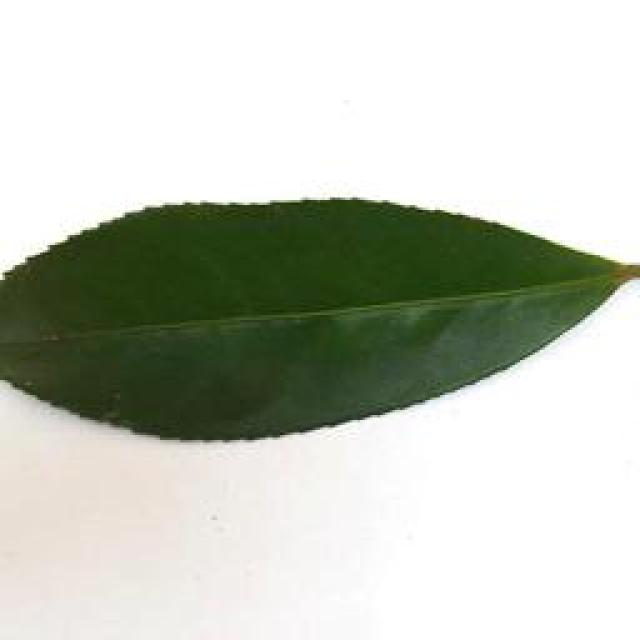Healthy: (1, 193, 636, 442)
